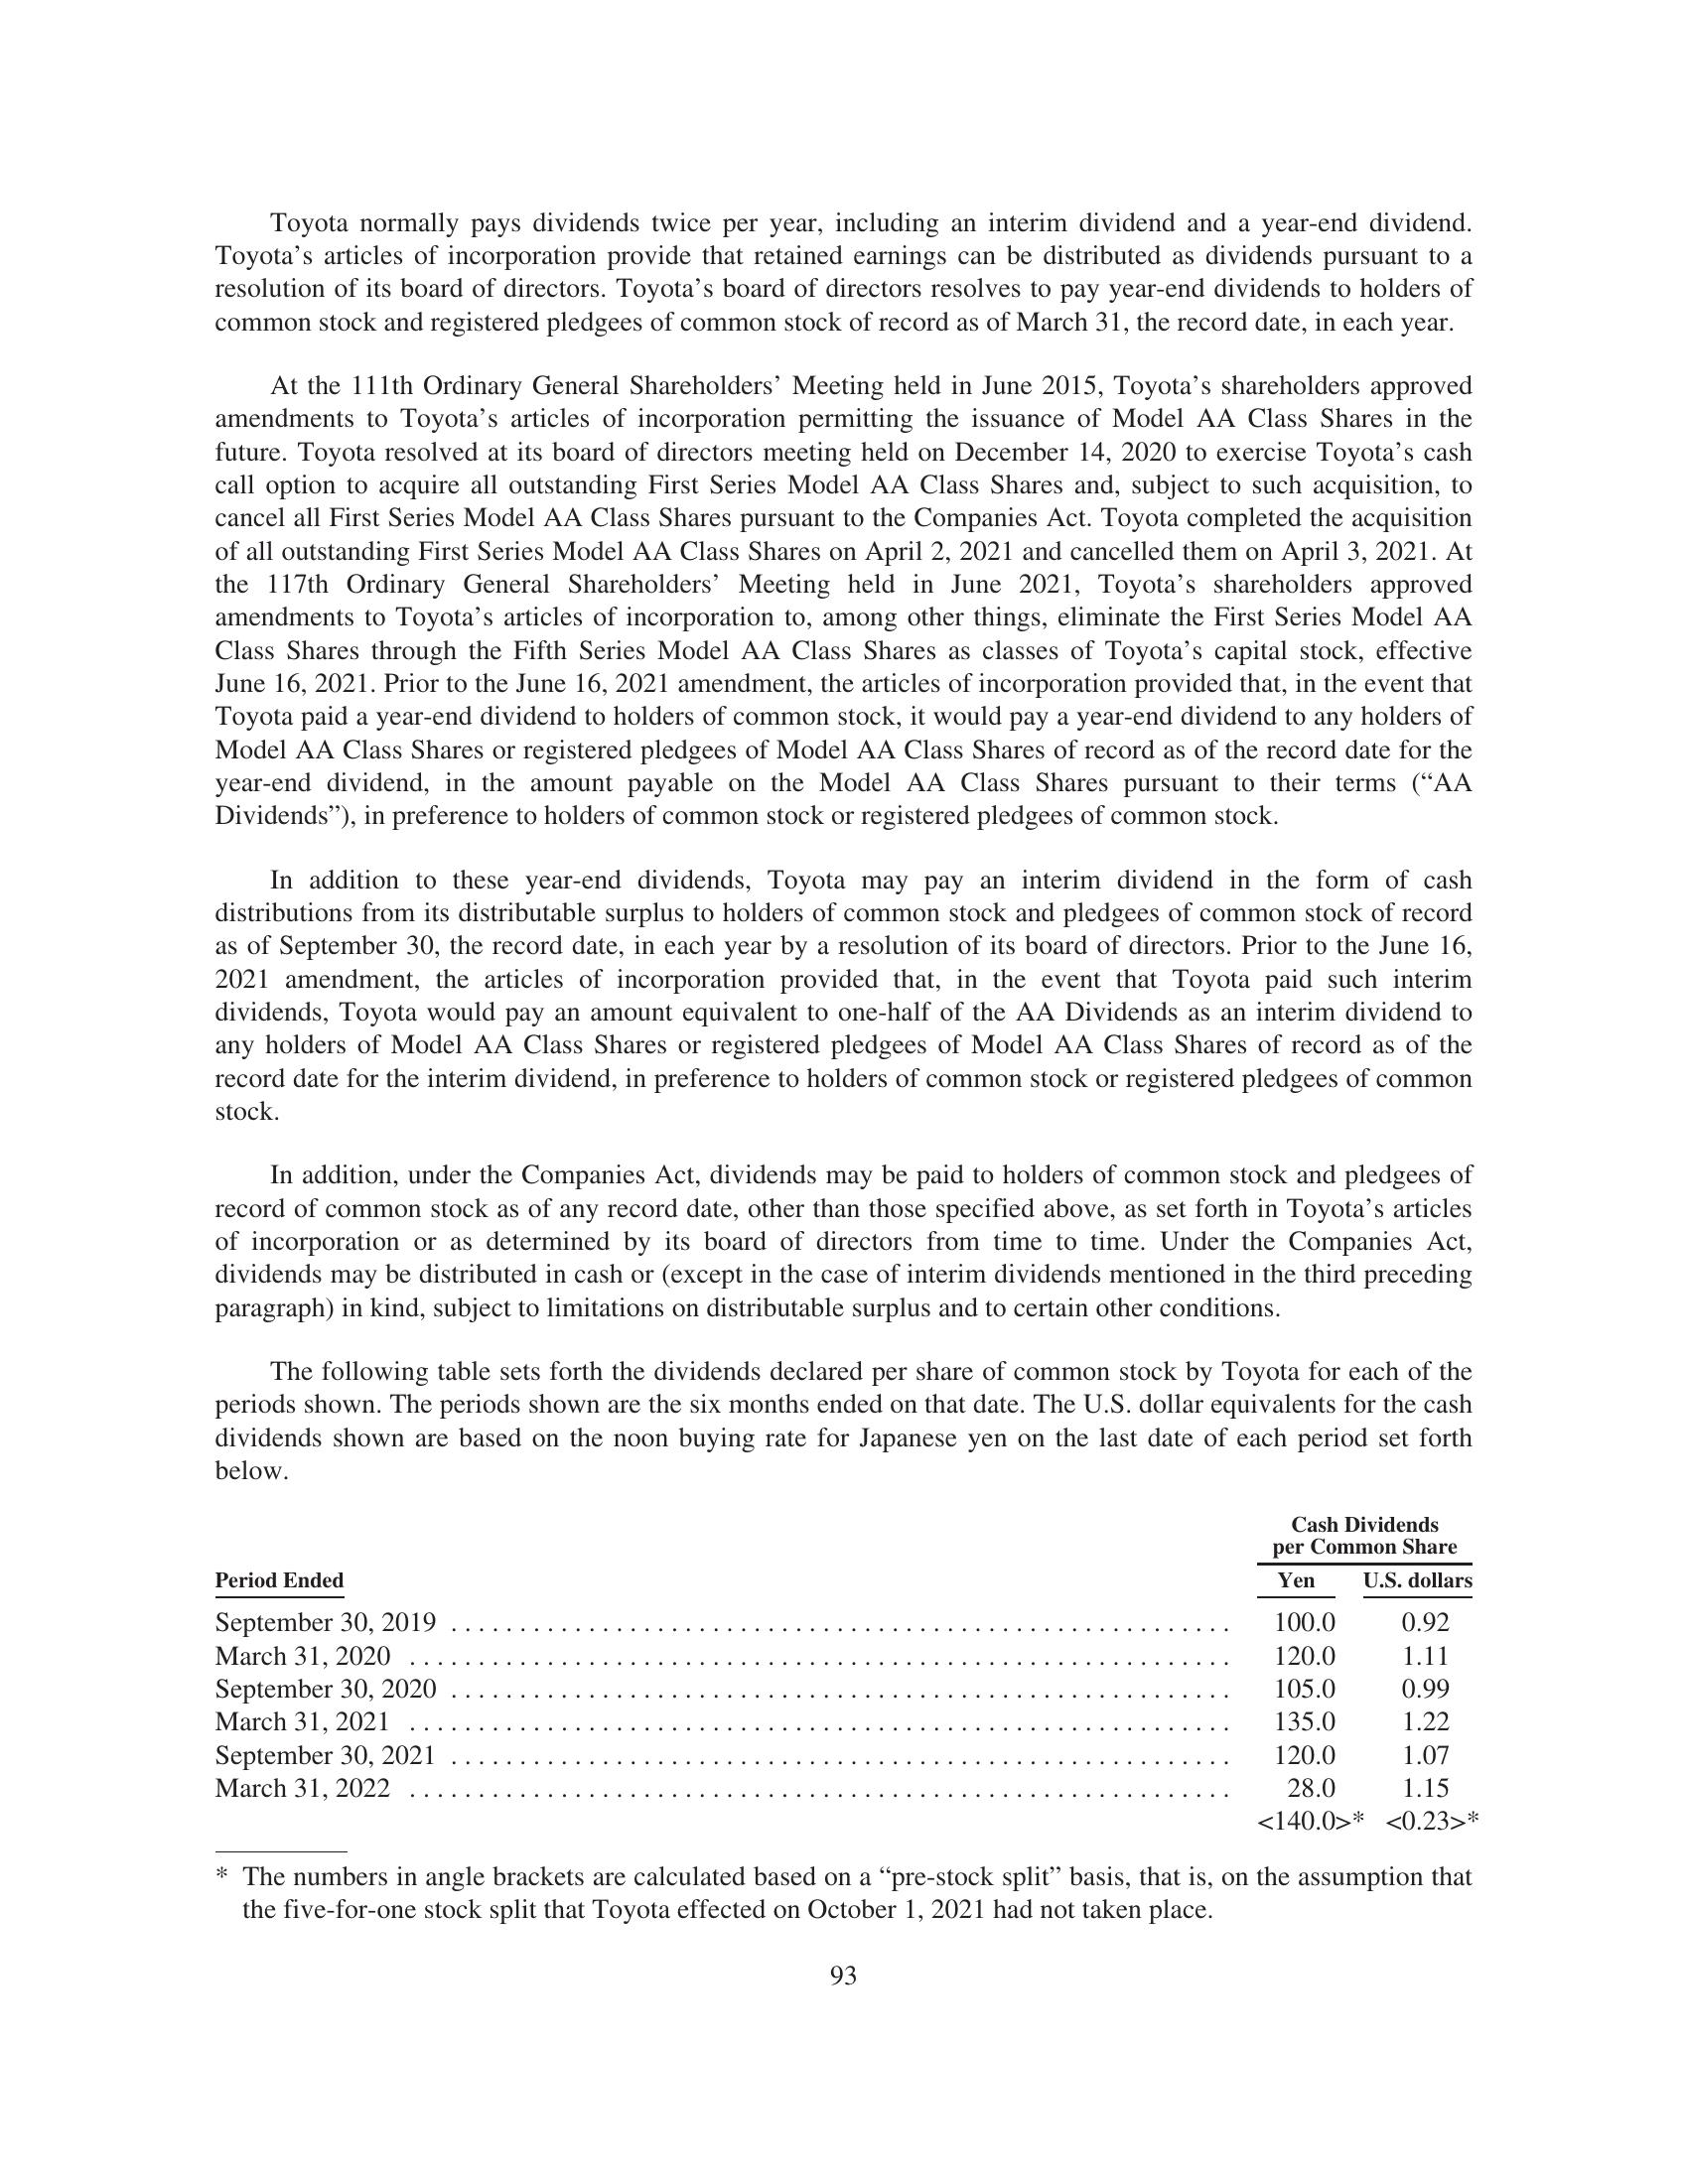Footer: (0, 1946, 1688, 2184)
Header: (0, 0, 1688, 170)
Table: (121, 1491, 1512, 1844)
